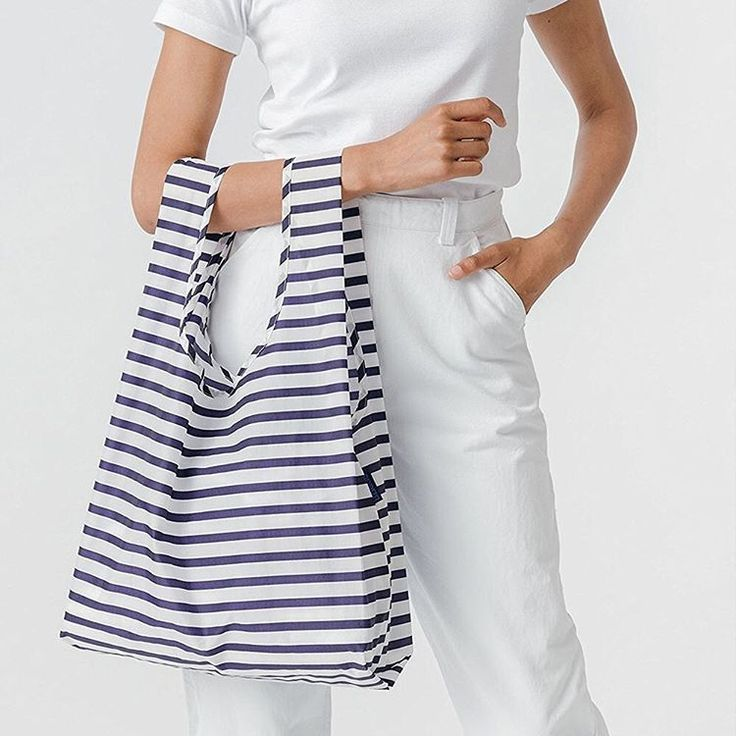nylon: (58, 150, 414, 693)
